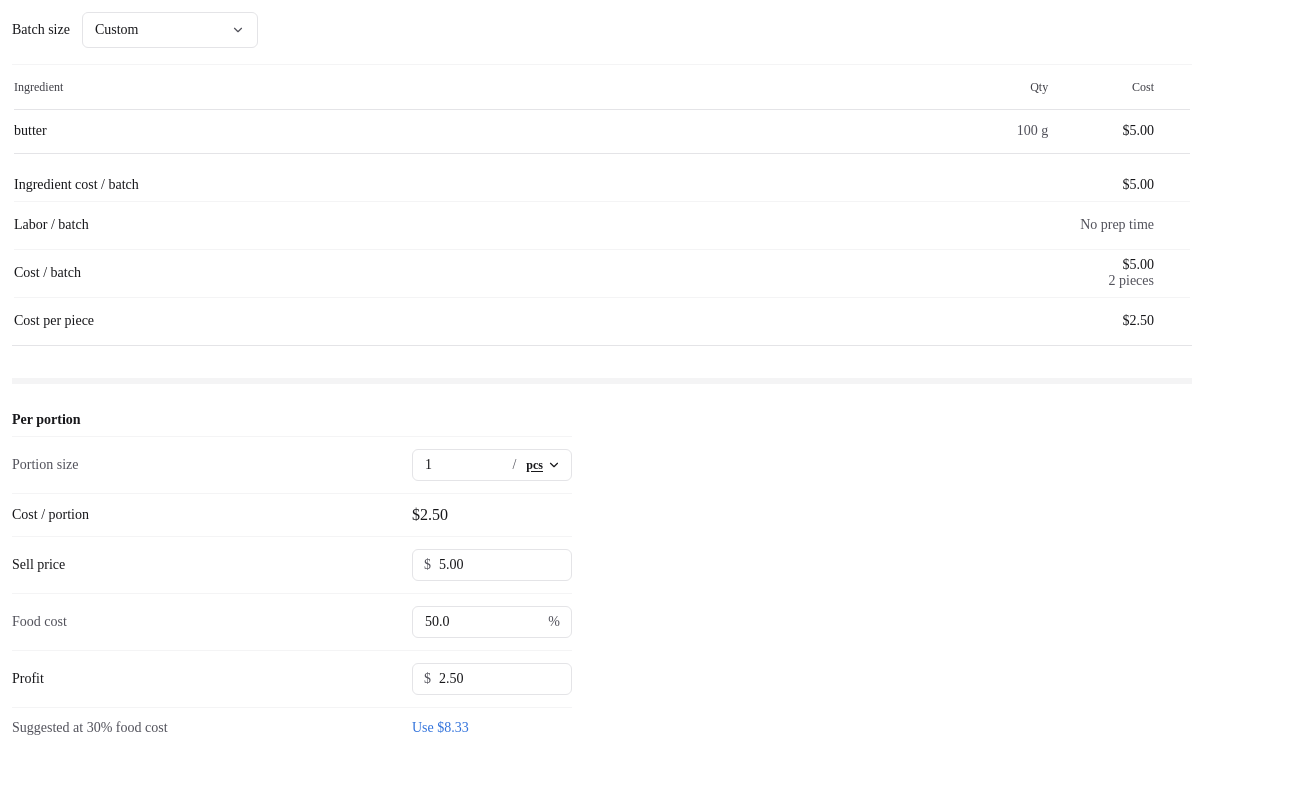
Test case: the sell price commit › goes back to the confirmed price when the server refuses
Replace the text in the number field named "Sell price" with "10" at (492, 565), box [412,549,572,581]
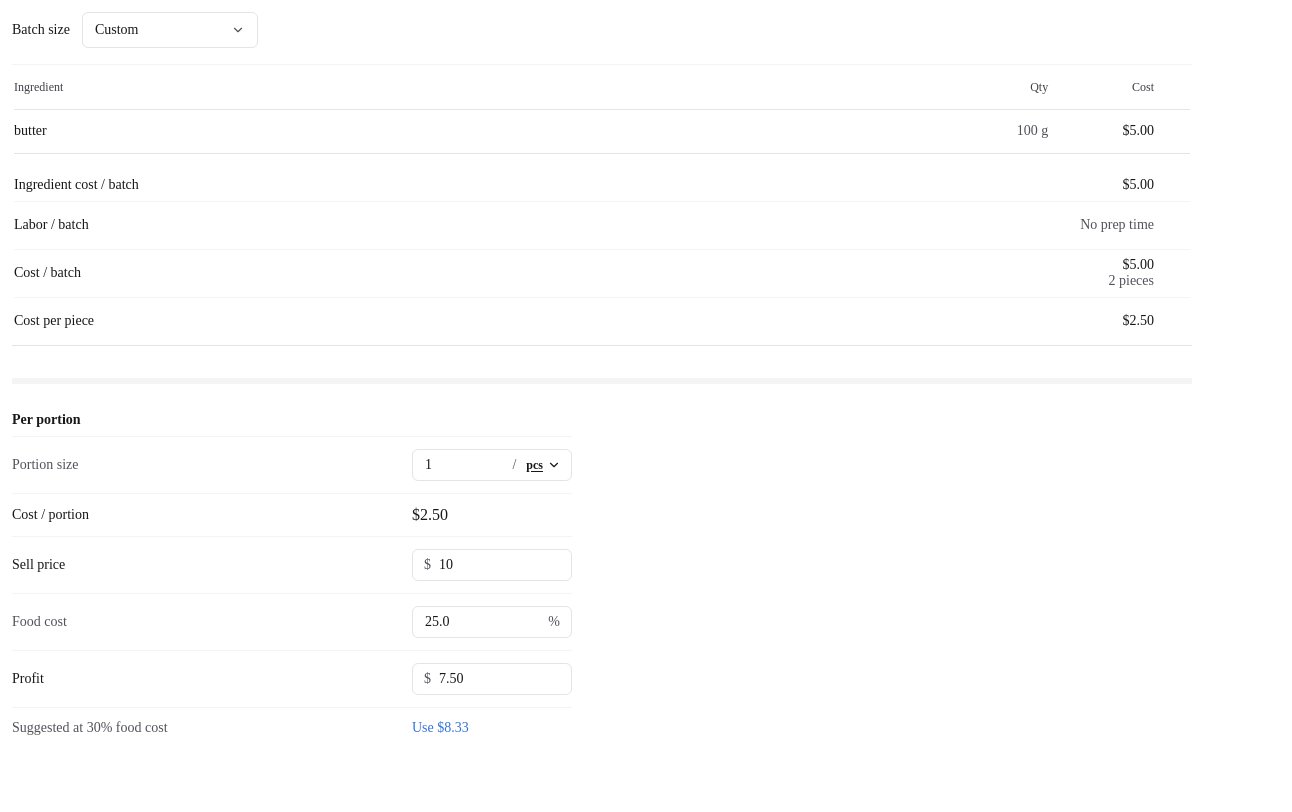
Leave the number field named "Sell price", box [412,549,572,581]
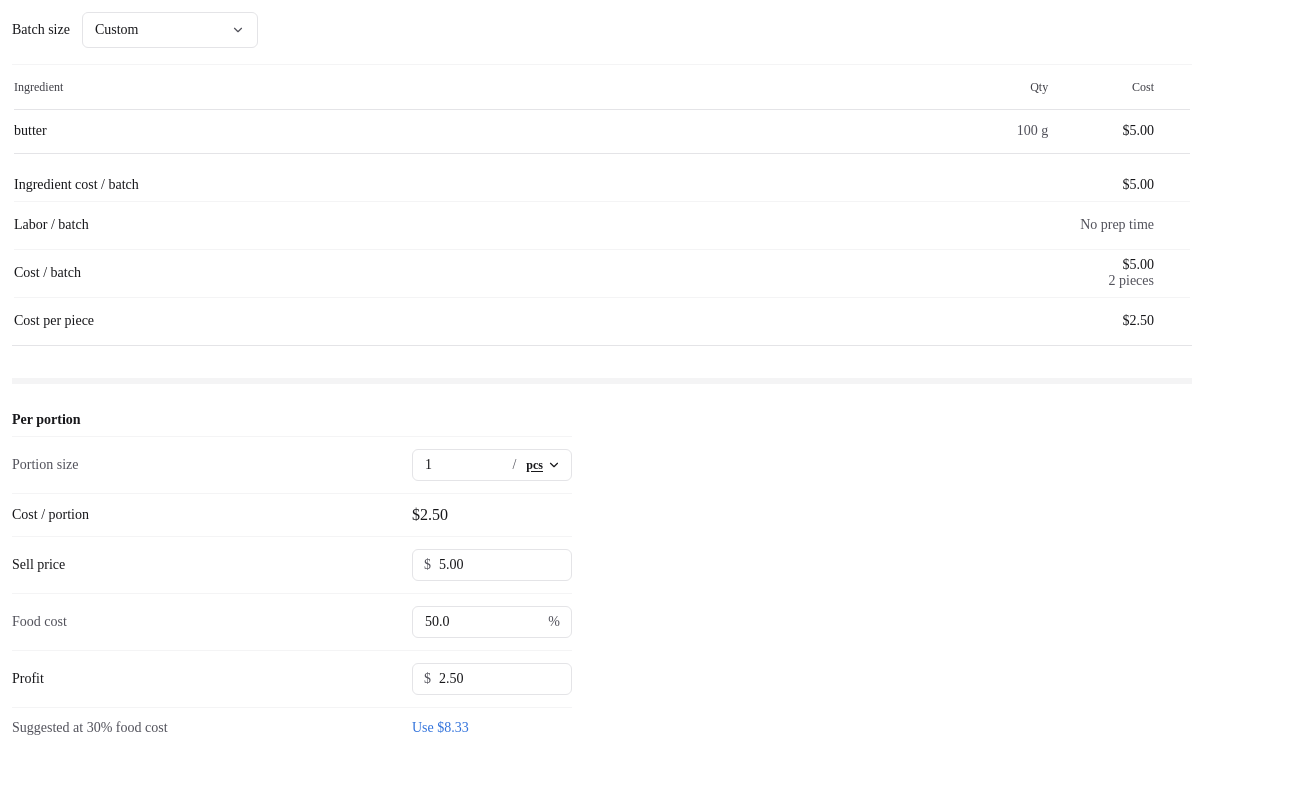
Now the number field named "Sell price" holds "5.00", box [412,549,572,581]
